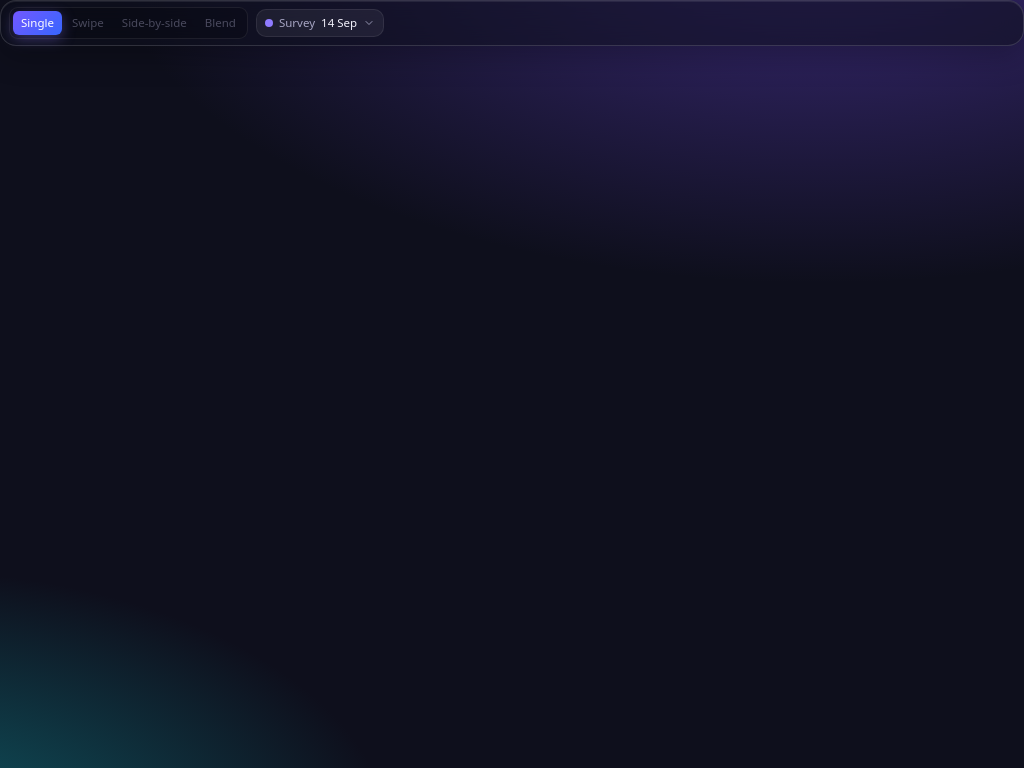
CompareBar (M §5 Compare) › disables compare modes with one survey and says why (M §14)
Expected: the radio button labelled "Swipe" is disabled, [64,11,112,35]
Expected: the radio button labelled "Single" is checked, [13,11,62,35]
Hover over the element named "Compare mode": (128, 23) [9,7,248,39]
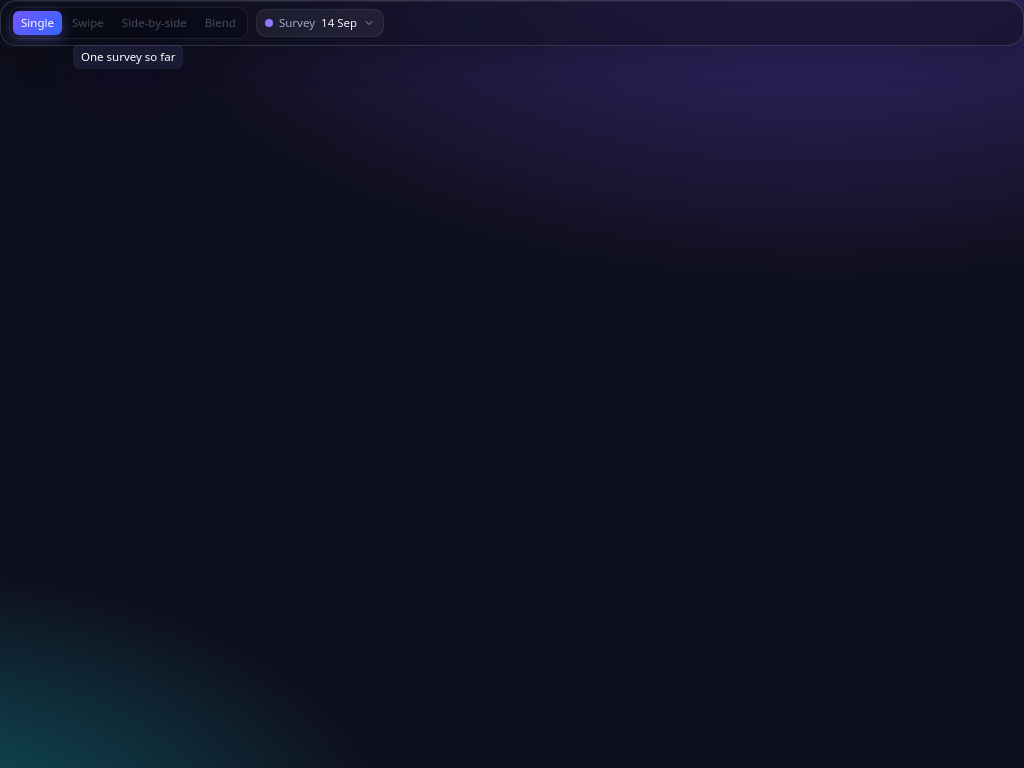
Now the tooltip "One survey so far" is shown, box [73,45,184,69]
